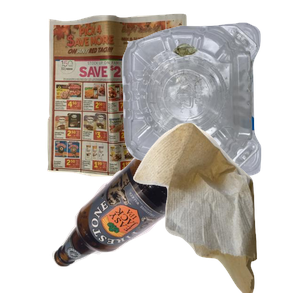glass: (49, 145, 229, 300)
paper: (44, 11, 229, 181)
plastic: (119, 20, 300, 190)
trash: (131, 120, 300, 300)
